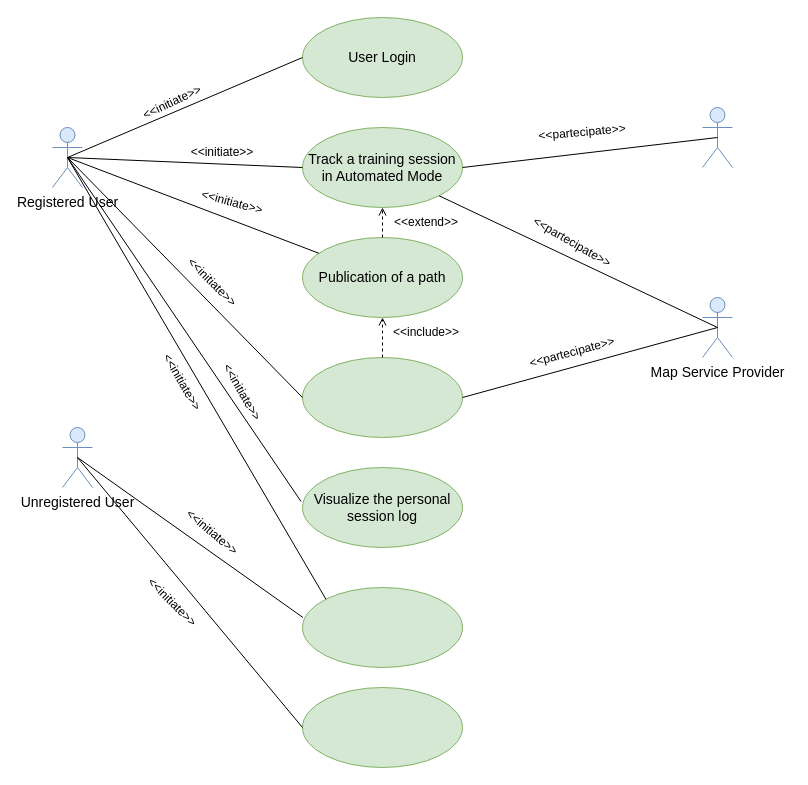
Some shapes in this 808 by 785 pixel diagram are drawn without their labels. The shapes that lost their labels are listed below. From the top down, each one's centre as x and y in pixels, then its label:
At (x=717, y=137): "Meteorological Service Provider".
At (x=382, y=397): "Insert data of the bike path in Manual Mode".
At (x=382, y=627): "Search for a bike path".
At (x=382, y=727): "User Registration".
